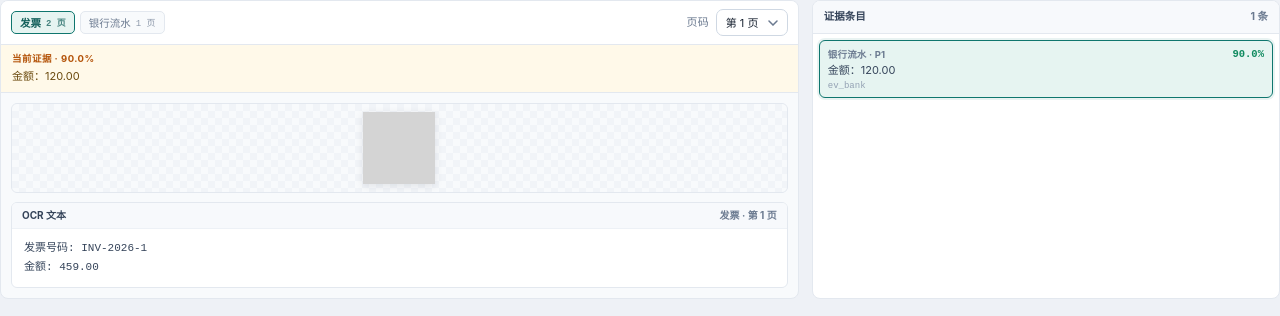
it: EvidencePanel 证据框选 › 无 bbox 的证据切换文档后回退为文本高亮
Step 1. Click the button "银行流水 · P1 90.0% 金额：120.00 ev_bank" → x=847, y=55, box [819,40,1273,98]
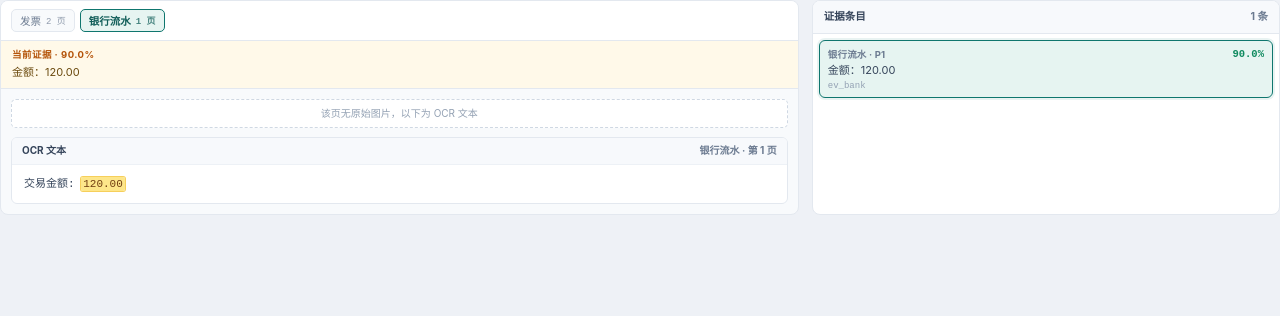
Expected: the text "120.00" is shown, [81,177,125,191]
